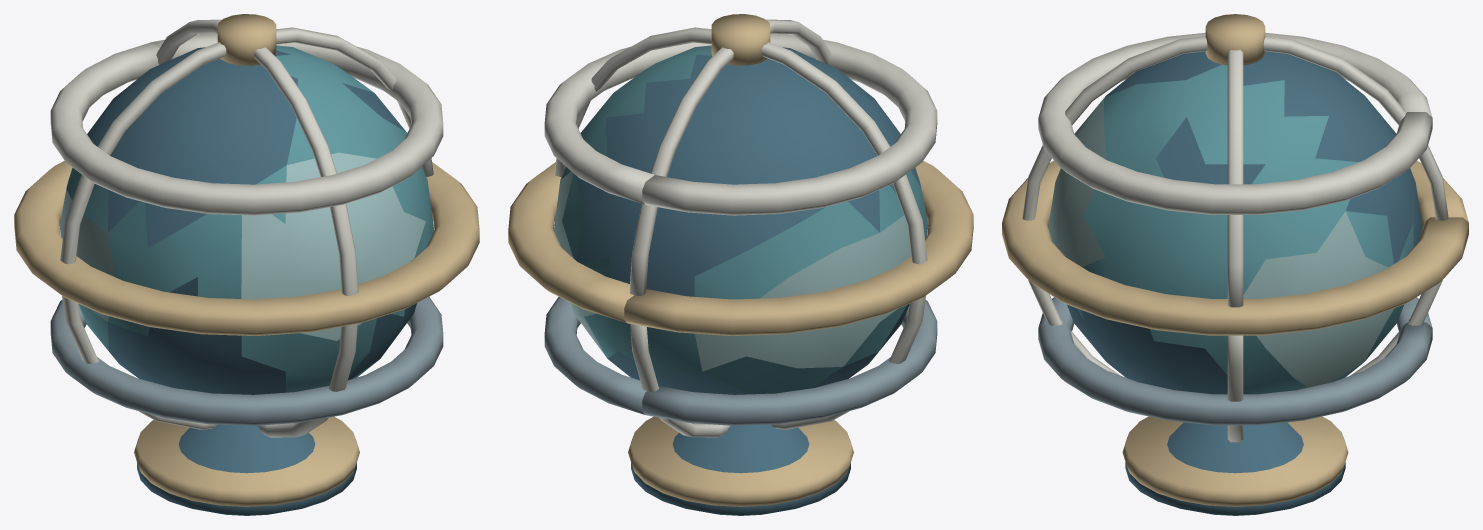
The model's file is ART-36.glb.
3 renders of one model, left to right at view 1: azimuth 30°, elevation 25°; view 2: azimuth 150°, elevation 25°; view 3: azimuth 270°, elevation 25°, orthographic.
Visible parts, largest first — view 1: world; view 2: world; view 3: world.
Boxes of the visible parts, left/top/right/bottom form: world: left=14, top=14, right=479, bottom=515; world: left=508, top=14, right=973, bottom=515; world: left=1002, top=14, right=1468, bottom=515.
Size of the model in its own units: 1.84 by 2 by 1.86.
